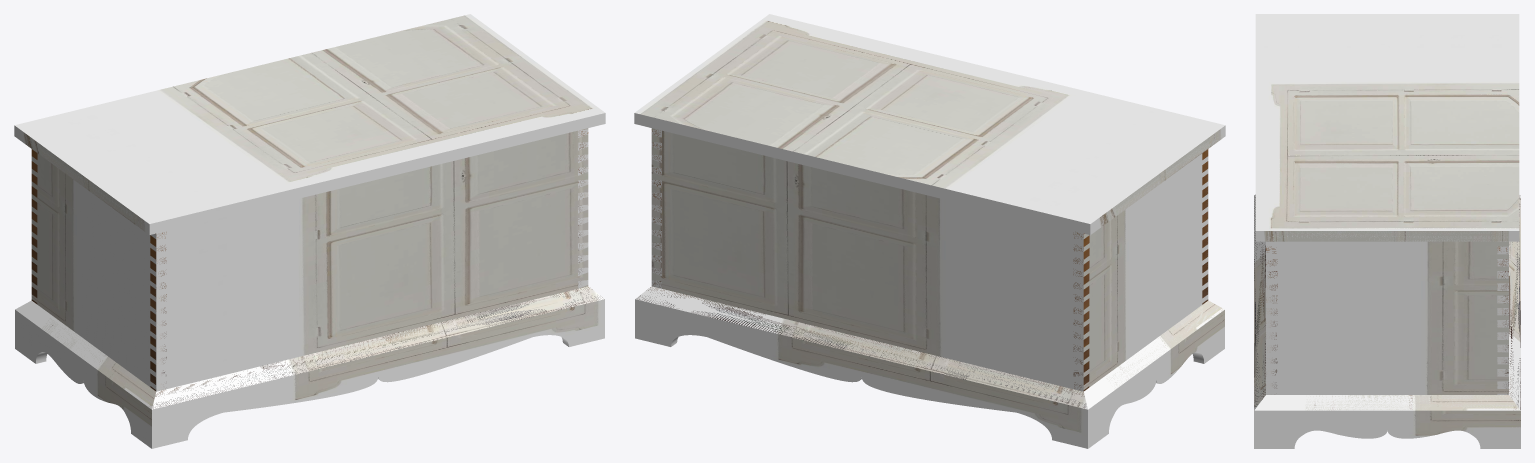
The picture shows the model from 3 angles, left to right: view 1: azimuth 30°, elevation 25°; view 2: azimuth 150°, elevation 25°; view 3: azimuth 270°, elevation 25°; orthographic projection. The views are drawn at different scales.
Visible parts, largest first — view 1: mesh1_mesh1-geometry, mesh5_mesh5-geometry, mesh6_mesh6-geometry, mesh2_mesh2-geometry, mesh7_mesh7-geometry, mesh3_mesh3-geometry; view 2: mesh1_mesh1-geometry, mesh5_mesh5-geometry, mesh6_mesh6-geometry, mesh2_mesh2-geometry, mesh7_mesh7-geometry, mesh3_mesh3-geometry; view 3: mesh5_mesh5-geometry, mesh3_mesh3-geometry, mesh7_mesh7-geometry, mesh6_mesh6-geometry, mesh1_mesh1-geometry.
Part boxes in pixels (x1,y1,x2,y2): mesh1_mesh1-geometry: [31, 128, 588, 391]; mesh5_mesh5-geometry: [14, 14, 605, 234]; mesh6_mesh6-geometry: [152, 286, 604, 448]; mesh2_mesh2-geometry: [31, 153, 166, 390]; mesh7_mesh7-geometry: [15, 300, 155, 448]; mesh3_mesh3-geometry: [578, 129, 588, 288]; mesh1_mesh1-geometry: [651, 128, 1208, 391]; mesh5_mesh5-geometry: [634, 14, 1225, 234]; mesh6_mesh6-geometry: [635, 286, 1087, 448]; mesh2_mesh2-geometry: [1073, 153, 1208, 390]; mesh7_mesh7-geometry: [1084, 300, 1224, 448]; mesh3_mesh3-geometry: [651, 129, 661, 288]; mesh5_mesh5-geometry: [1255, 14, 1519, 241]; mesh3_mesh3-geometry: [1266, 241, 1508, 394]; mesh7_mesh7-geometry: [1254, 395, 1520, 448]; mesh6_mesh6-geometry: [1254, 194, 1520, 410]; mesh1_mesh1-geometry: [1266, 241, 1508, 394].
Size of the model in its own units: 0.8188 by 0.3852 by 0.4256.
